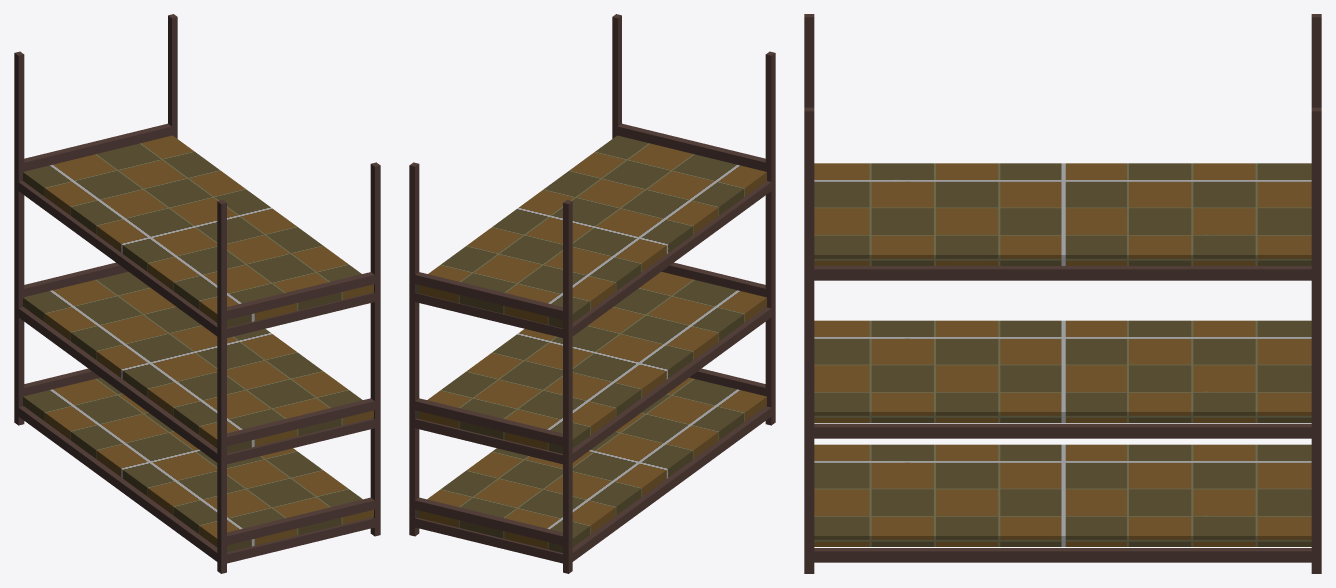
The model's file is stand.fbx.
3 views of the same model, side by side, from view 1: azimuth 30°, elevation 25°; view 2: azimuth 150°, elevation 25°; view 3: azimuth 270°, elevation 25° (orthographic). The views are drawn at different scales.
Parts seen in each view (by area): view 1: Plane, Cube.004, Cube.002, Cube.003; view 2: Plane, Cube.004, Cube.002, Cube.003; view 3: Cube.004, Cube.002, Cube.003, Plane.
Boxes of the visible parts, left/top/right/bottom form: Plane: left=14, top=14, right=380, bottom=573; Cube.004: left=23, top=135, right=373, bottom=327; Cube.002: left=23, top=272, right=373, bottom=453; Cube.003: left=23, top=377, right=373, bottom=552; Plane: left=409, top=14, right=775, bottom=573; Cube.004: left=415, top=135, right=766, bottom=328; Cube.002: left=415, top=272, right=766, bottom=453; Cube.003: left=415, top=377, right=766, bottom=552; Cube.004: left=814, top=163, right=1311, bottom=265; Cube.002: left=814, top=320, right=1311, bottom=422; Cube.003: left=814, top=444, right=1311, bottom=546; Plane: left=804, top=14, right=1321, bottom=573.
Bounding box in the file's own units: 80.49 × 179 × 181.
2 materials, 1 textured.
